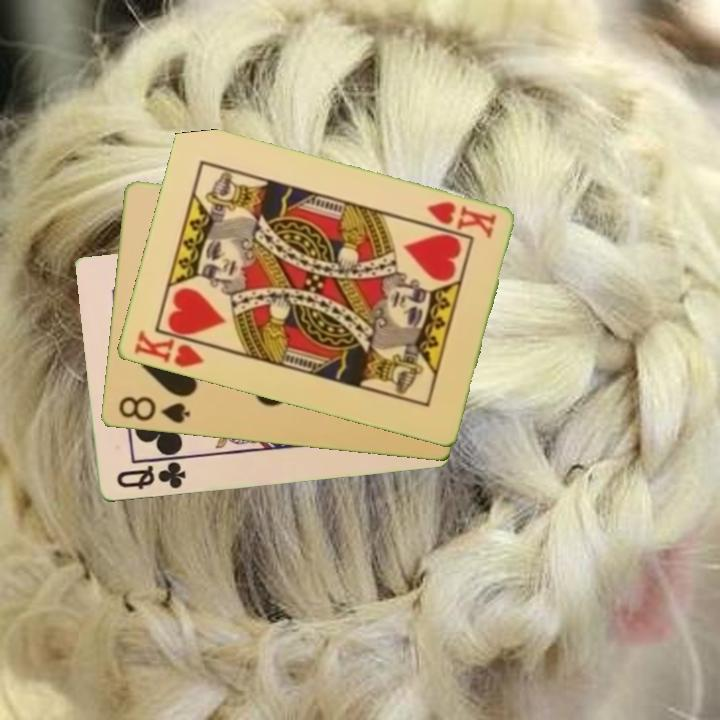8s: (114, 393, 192, 427)
Kh: (130, 327, 214, 371), (422, 198, 499, 242)
Qc: (112, 458, 189, 493)
